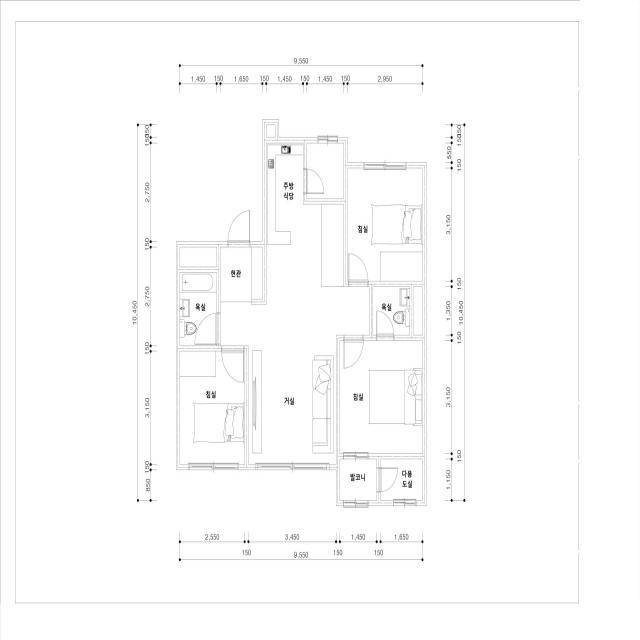space_balconi: (340, 459, 377, 500)
space_bedroom: (340, 341, 422, 454), (348, 168, 422, 281), (180, 351, 245, 464)
space_front: (221, 247, 262, 302)
space_kitchen: (266, 143, 344, 245)
space_living_room: (221, 244, 369, 464)
space_other: (307, 143, 344, 198), (381, 459, 422, 500), (180, 247, 217, 267), (413, 287, 422, 335), (266, 125, 275, 137)
space_toilet: (180, 272, 217, 346), (373, 287, 410, 335)
